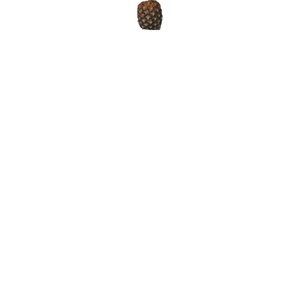abacaxi: (132, 2, 165, 34)
